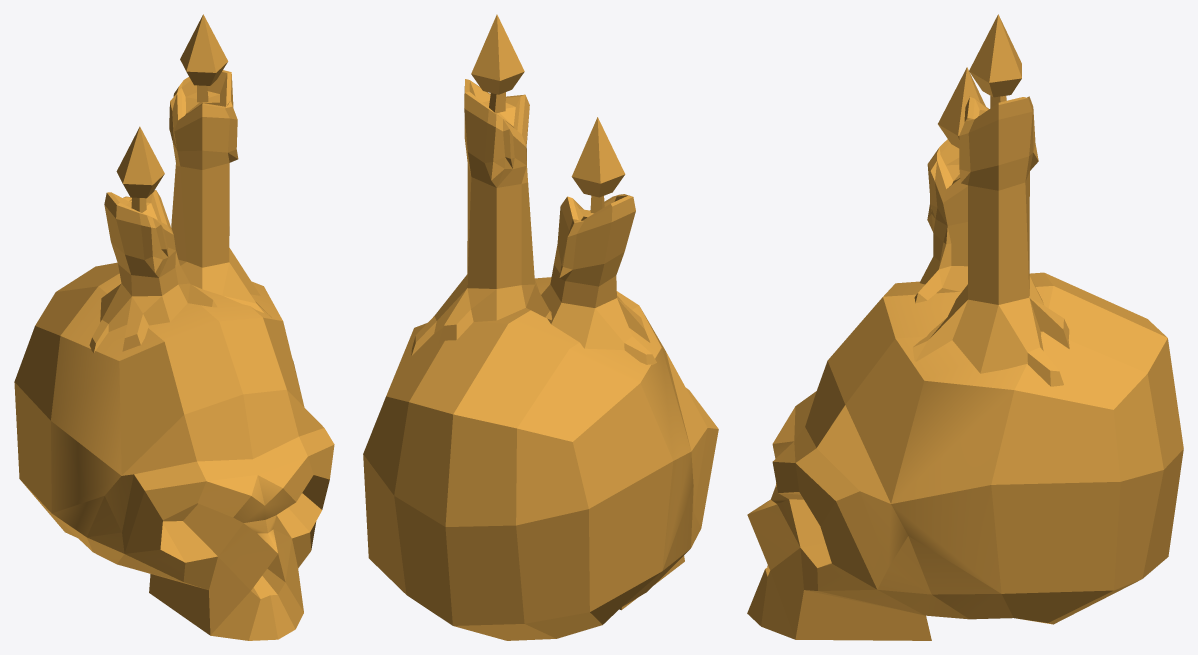
The model's file is candle-skull-lit.fbx.
The picture shows the model from 3 angles, left to right: view 1: azimuth 30°, elevation 25°; view 2: azimuth 150°, elevation 25°; view 3: azimuth 270°, elevation 25°; orthographic projection. The views are drawn at different scales.
Parts seen in each view (by area): view 1: candle-skull-lit; view 2: candle-skull-lit; view 3: candle-skull-lit.
Boxes of the visible parts, x1,y1,x2,y2 form: candle-skull-lit: (14, 14, 334, 640); candle-skull-lit: (363, 14, 718, 640); candle-skull-lit: (747, 14, 1183, 640).
Bounding box in the file's own units: 0.1621 × 0.343 × 0.2194.
